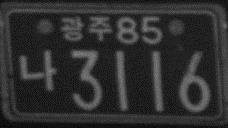1: (112, 48, 132, 113), (150, 48, 165, 113)
3: (69, 48, 104, 111)
5: (141, 14, 162, 46)
6: (176, 49, 212, 113)
8: (116, 14, 138, 46)
광주_O: (59, 14, 112, 43)
나: (18, 48, 58, 93)
